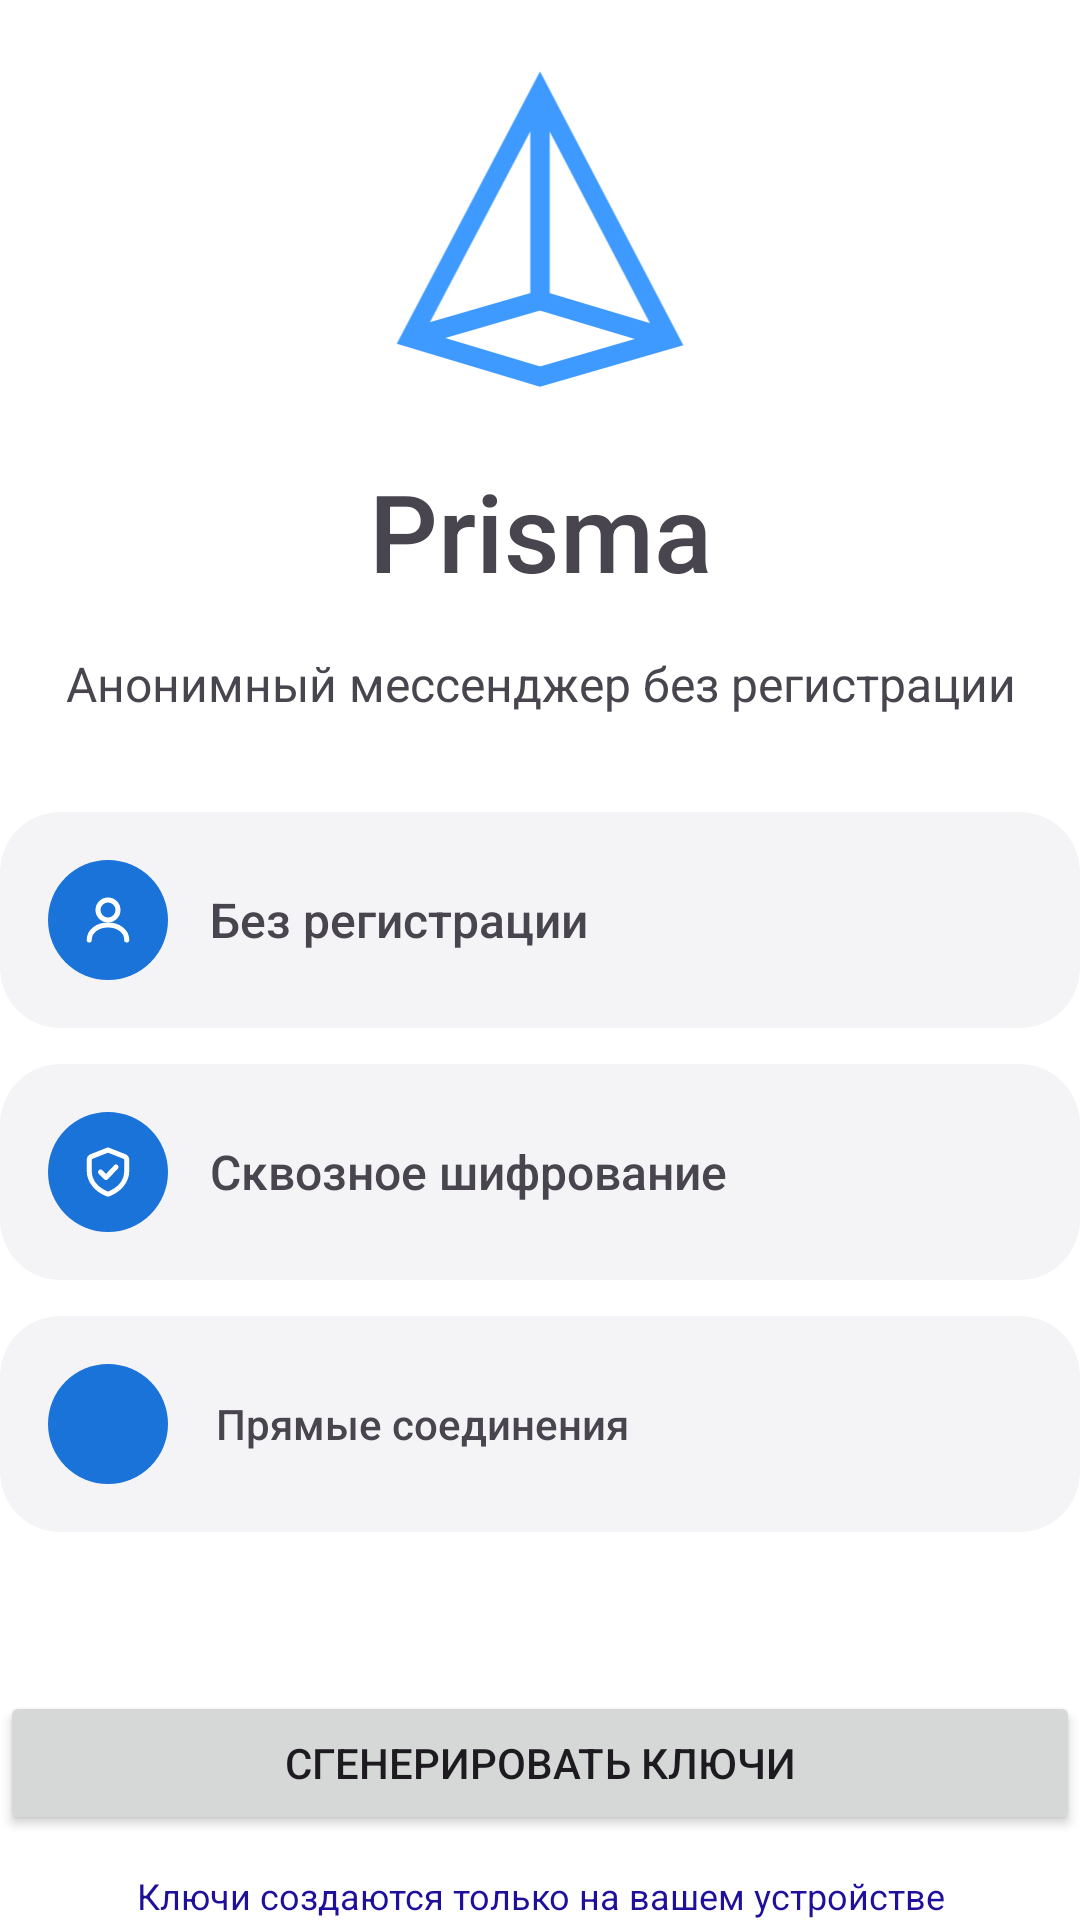

Icons on this 1080px×1920px Android screen, each with the point to tap as [x,y]:
person: [108,920]
shield: [108,1172]
